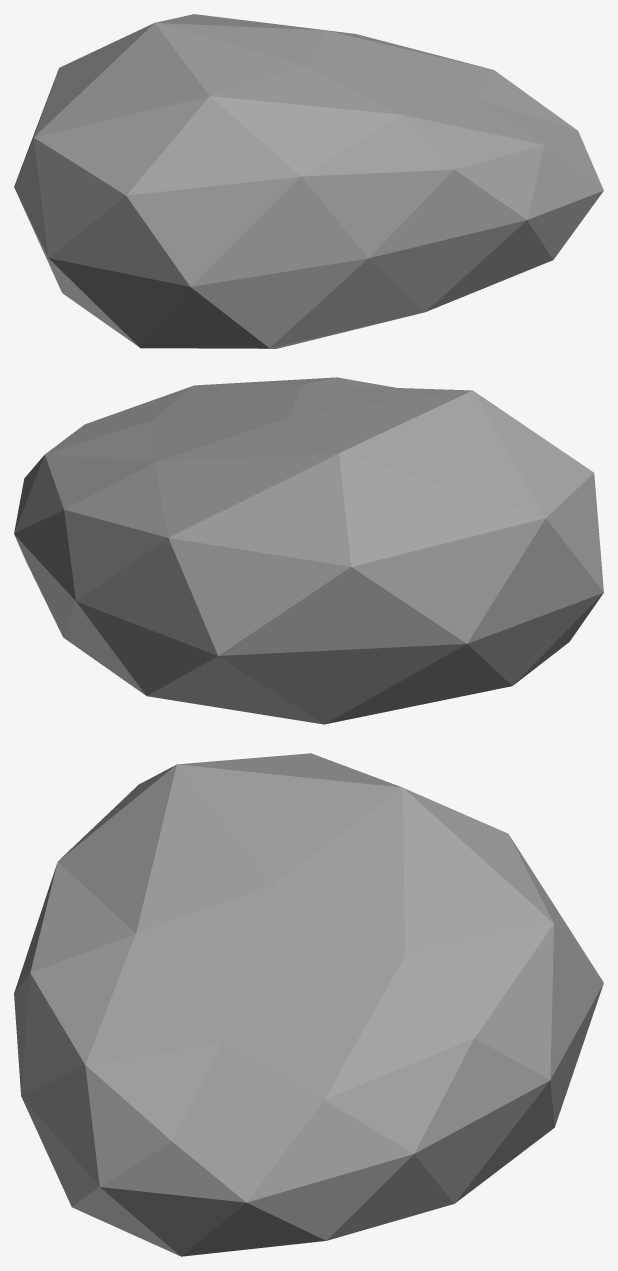
Rendered from Rock8.fbx.
3 renders of one model, top to bottom at view 1: azimuth 30°, elevation 25°; view 2: azimuth 150°, elevation 25°; view 3: azimuth 270°, elevation 25°, orthographic. The views are drawn at different scales.
Parts seen in each view (by area): view 1: Small Rock 3; view 2: Small Rock 3; view 3: Small Rock 3.
Part boxes in pixels (x1,y1,x2,y2): Small Rock 3: (14, 14, 603, 348); Small Rock 3: (14, 377, 603, 724); Small Rock 3: (14, 753, 603, 1256).
Size of the model in its own units: 129 by 169 by 74.37.
